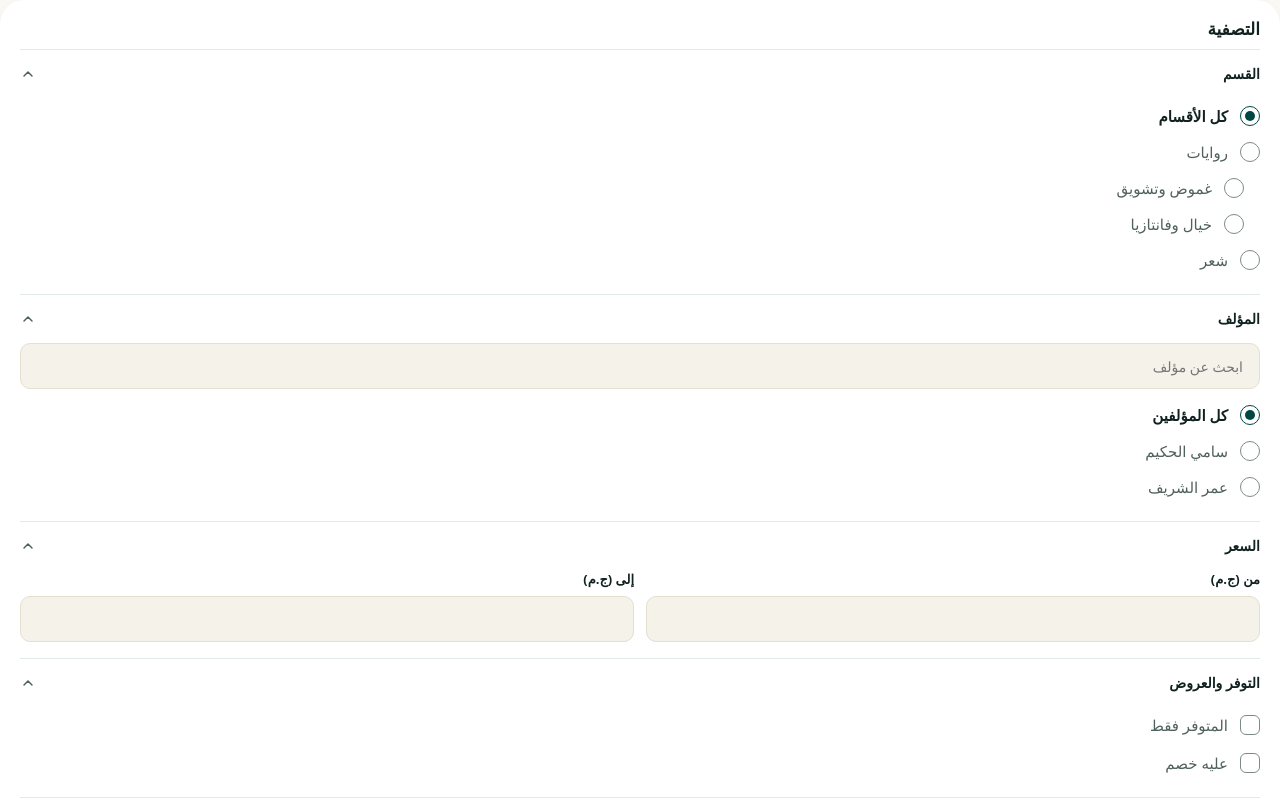
Test: price range › shows the range error when the minimum is above the maximum and never navigates
This screenshot has width=1280, height=800.
Type "300" into the field labelled "من (ج.م)". click: (953, 619)
box: [646, 596, 1260, 642]
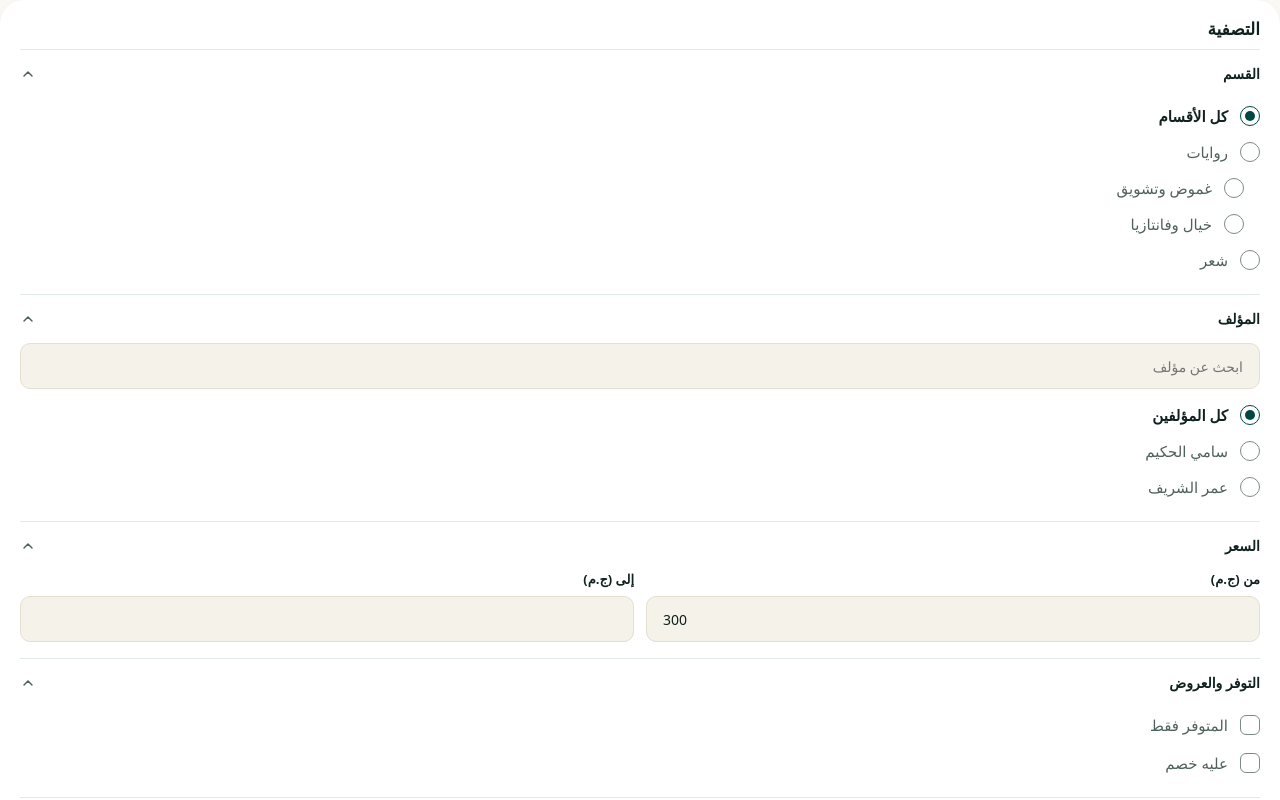
Type "100" into the field labelled "إلى (ج.م)". click: (327, 619)
box: [20, 596, 634, 642]
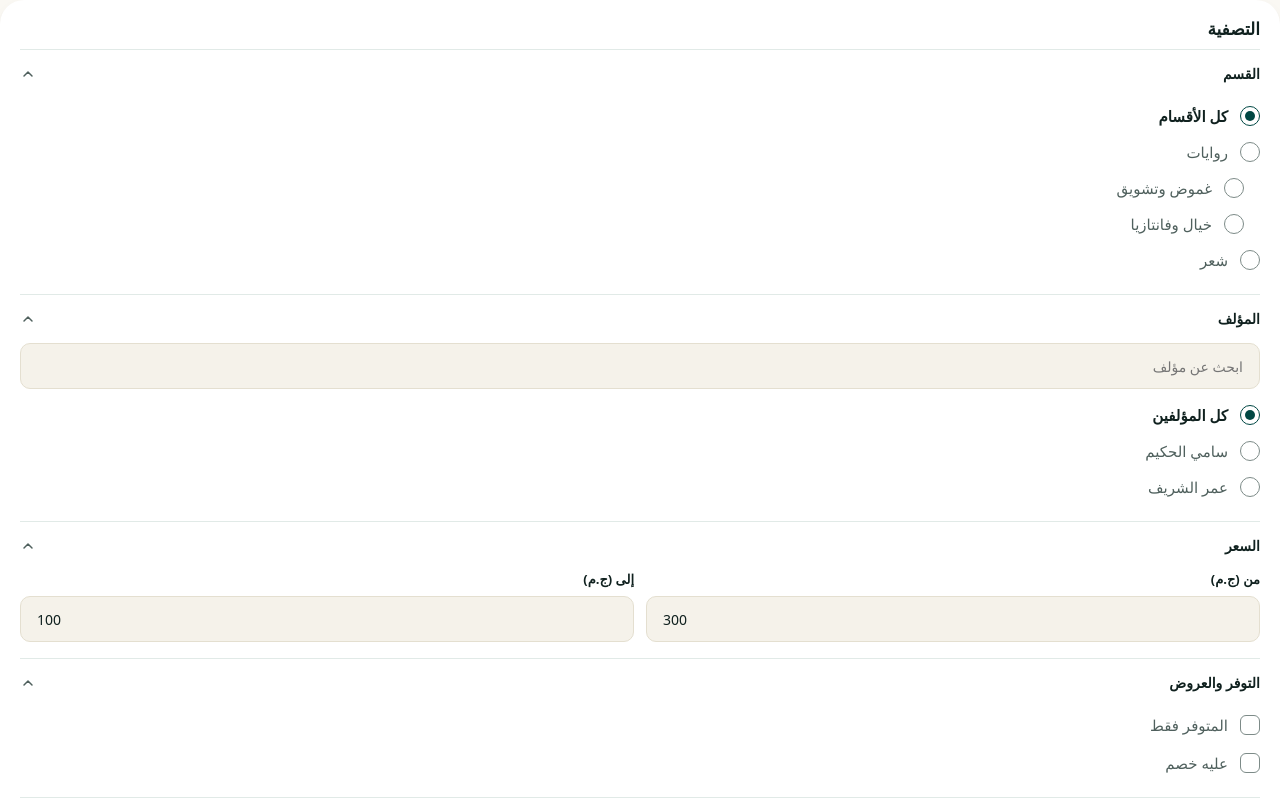
Press Enter in the field labelled "إلى (ج.م)", box [20, 596, 634, 642]
Wait 800 ms
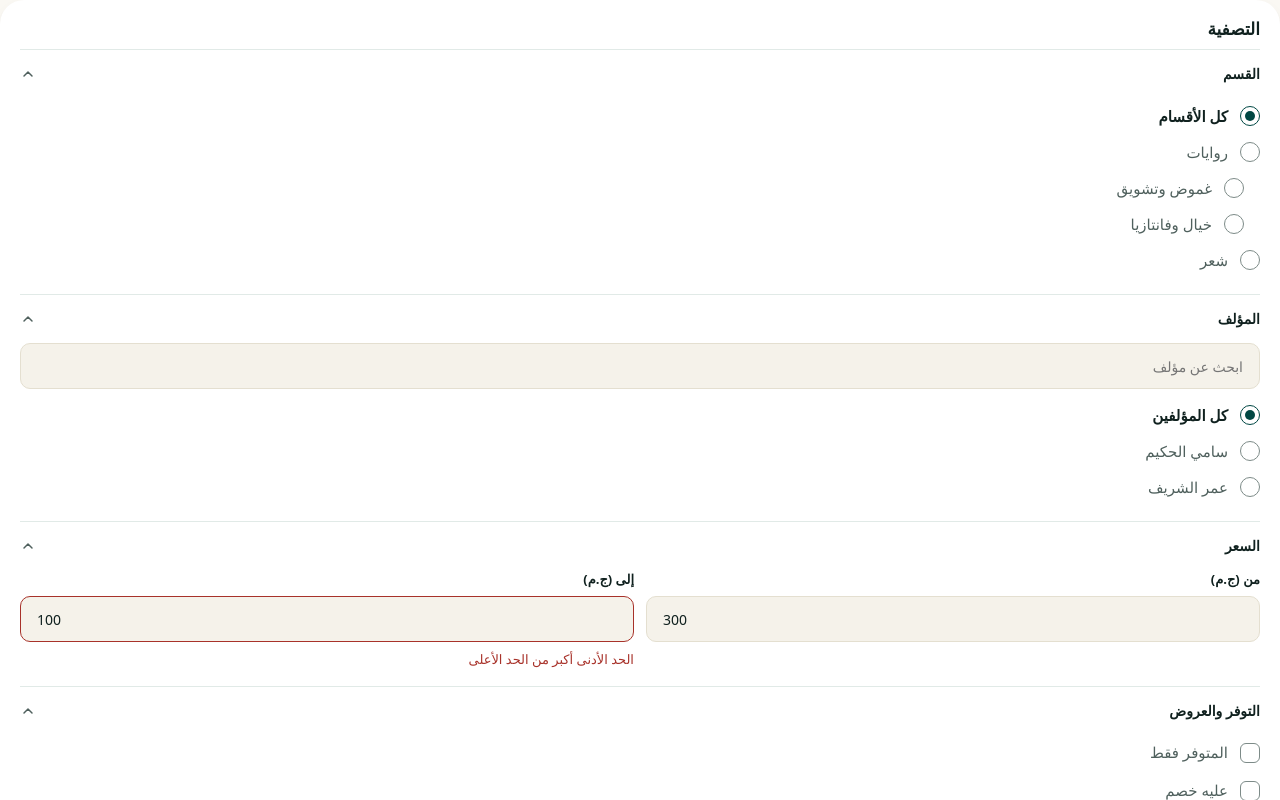
Expected: the text "الحد الأدنى أكبر من الحد الأعلى" is shown, [469, 650, 634, 668]
